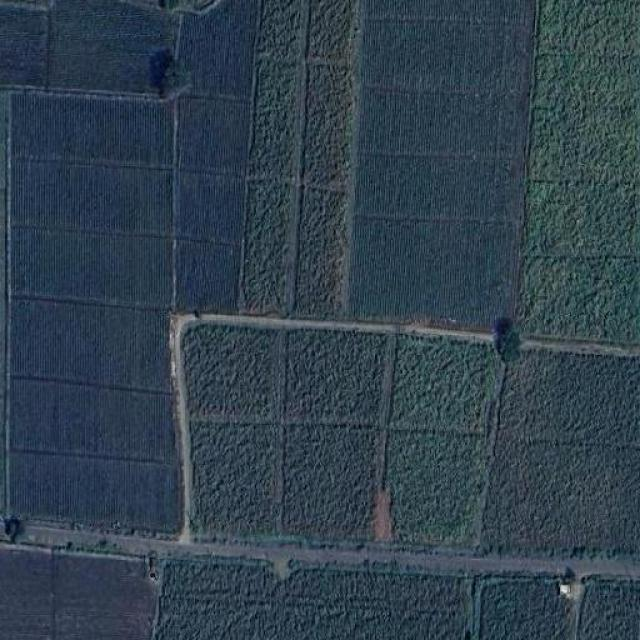land-Sx1C: (345, 1, 536, 335), (157, 559, 466, 640), (299, 0, 355, 316), (478, 448, 640, 555), (245, 0, 300, 314), (0, 544, 156, 640), (14, 299, 166, 389), (500, 349, 640, 446), (380, 432, 490, 552), (12, 378, 169, 461), (10, 454, 178, 531), (12, 229, 169, 304), (46, 0, 172, 92), (538, 0, 640, 107), (390, 338, 499, 435), (12, 162, 165, 231), (14, 94, 166, 163), (284, 426, 374, 538), (286, 331, 386, 428), (192, 424, 275, 536), (525, 261, 640, 341), (184, 325, 275, 423), (526, 183, 640, 257), (531, 108, 640, 180), (178, 0, 255, 98), (481, 578, 572, 640), (178, 98, 248, 173), (179, 169, 244, 242), (179, 240, 240, 309), (578, 578, 640, 639), (0, 2, 46, 84)
